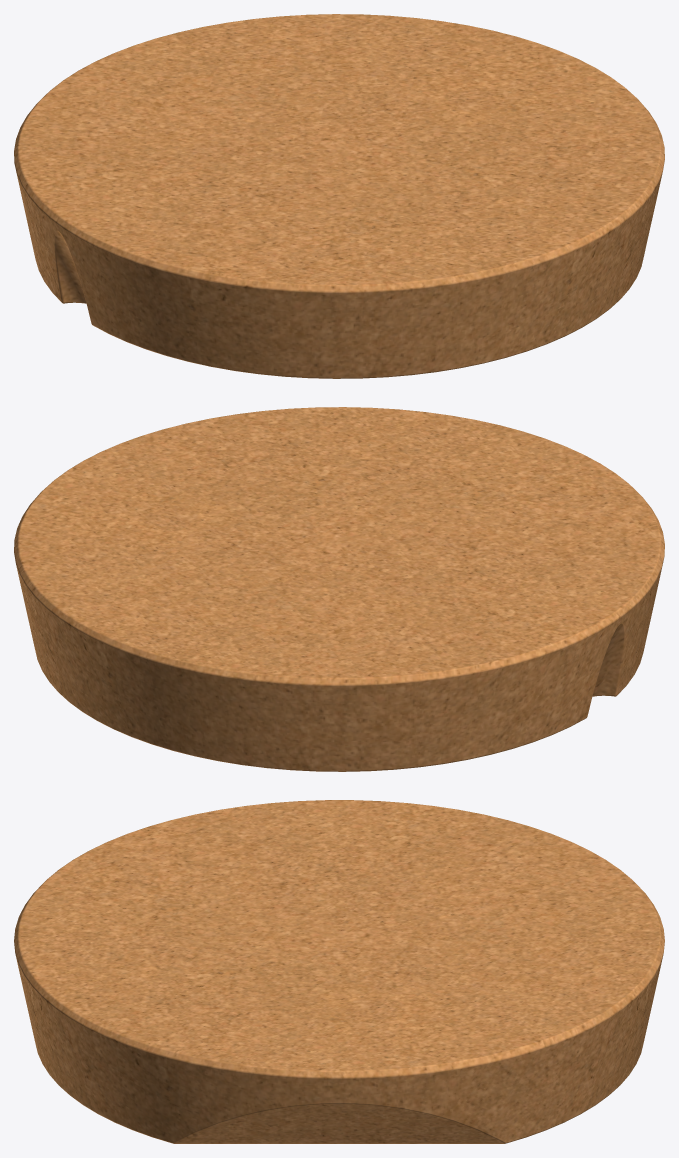
The model's file is 9-5 Jug.glb.
The picture shows the model from 3 angles, top to bottom: view 1: azimuth 30°, elevation 25°; view 2: azimuth 150°, elevation 25°; view 3: azimuth 270°, elevation 25°; orthographic projection.
Visible parts, largest first — view 1: Jug v1.2; view 2: Jug v1.2; view 3: Jug v1.2.
Boxes of the visible parts, x1,y1,x2,y2 form: Jug v1.2: (14,14,664,378); Jug v1.2: (14,407,664,771); Jug v1.2: (14,800,664,1143).
Size of what is drawn, in the model's own units: 0.1164 by 0.02 by 0.1165.
Materials: 1 (1 with a texture image).
